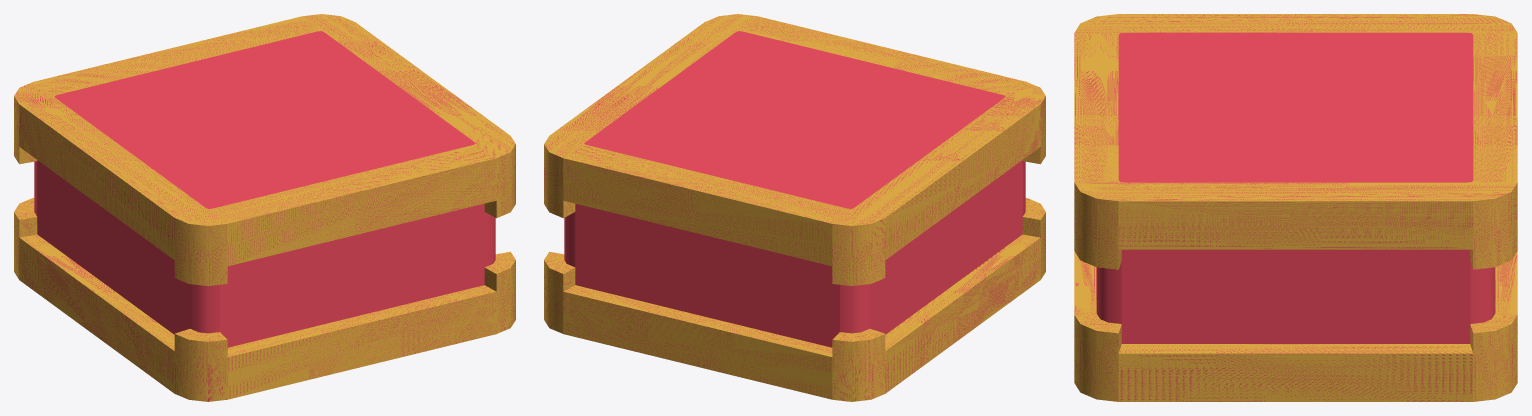
The model's file is blockMovingRed.obj.
The picture shows the model from 3 angles, left to right: view 1: azimuth 30°, elevation 25°; view 2: azimuth 150°, elevation 25°; view 3: azimuth 270°, elevation 25°; orthographic projection. The views are drawn at different scales.
Parts seen in each view (by area): view 1: blockMovingRed; view 2: blockMovingRed; view 3: blockMovingRed.
Part boxes in pixels (x1,y1,x2,y2): blockMovingRed: (14, 14, 515, 401); blockMovingRed: (544, 14, 1045, 401); blockMovingRed: (1074, 14, 1517, 401).
Bounding box in the file's own units: 1 × 0.5 × 1.
